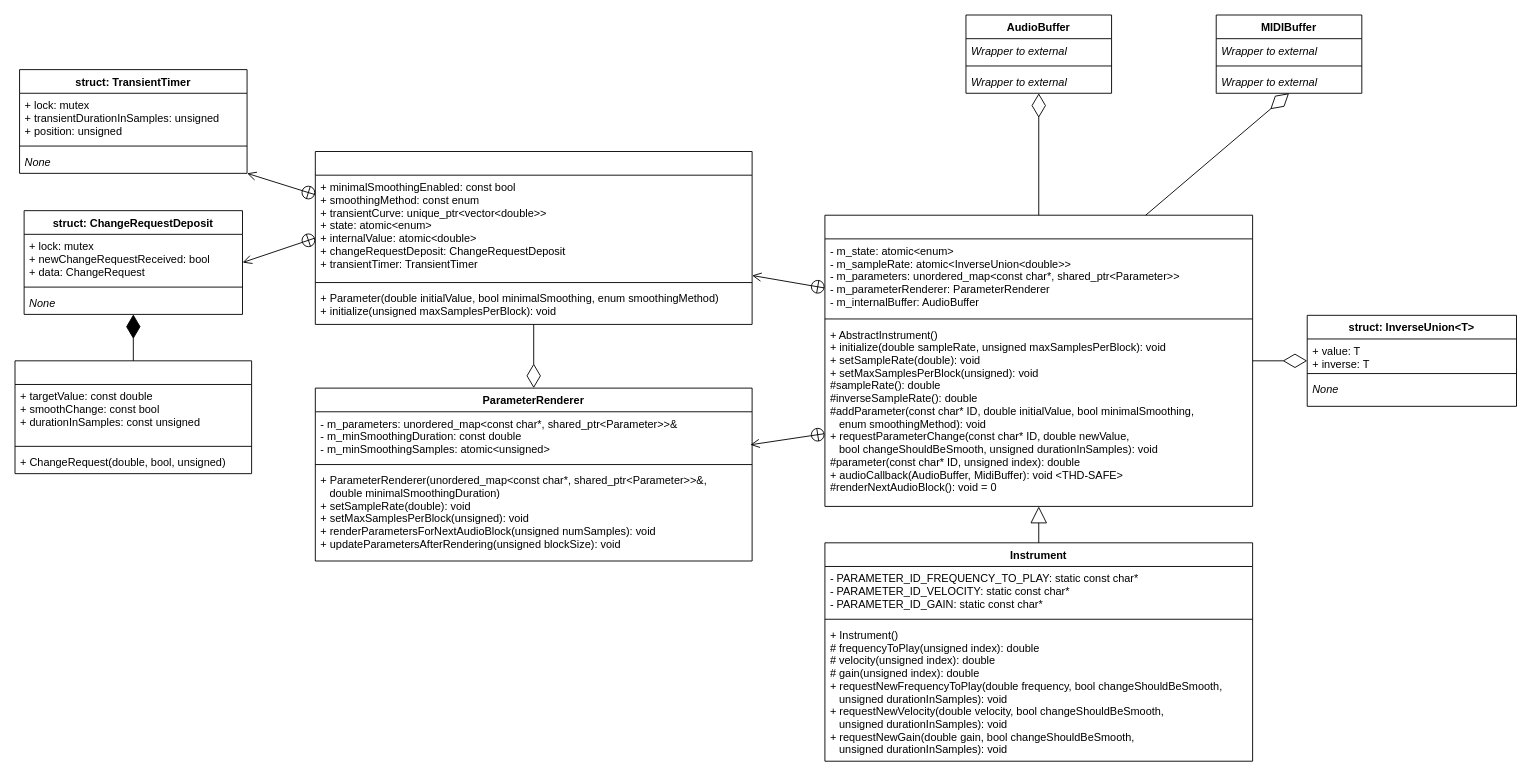
The diagram is 1532 pixels wide and 776 high, and some of its shapes have lost their labels. The box of each missing label's shape, as (x1, y1, x2, y2) in pixels:
BlankInstrument: (824, 214, 1253, 506)
struct: ChangeRequest: (14, 360, 252, 474)
struct: Parameter: (314, 151, 752, 324)
